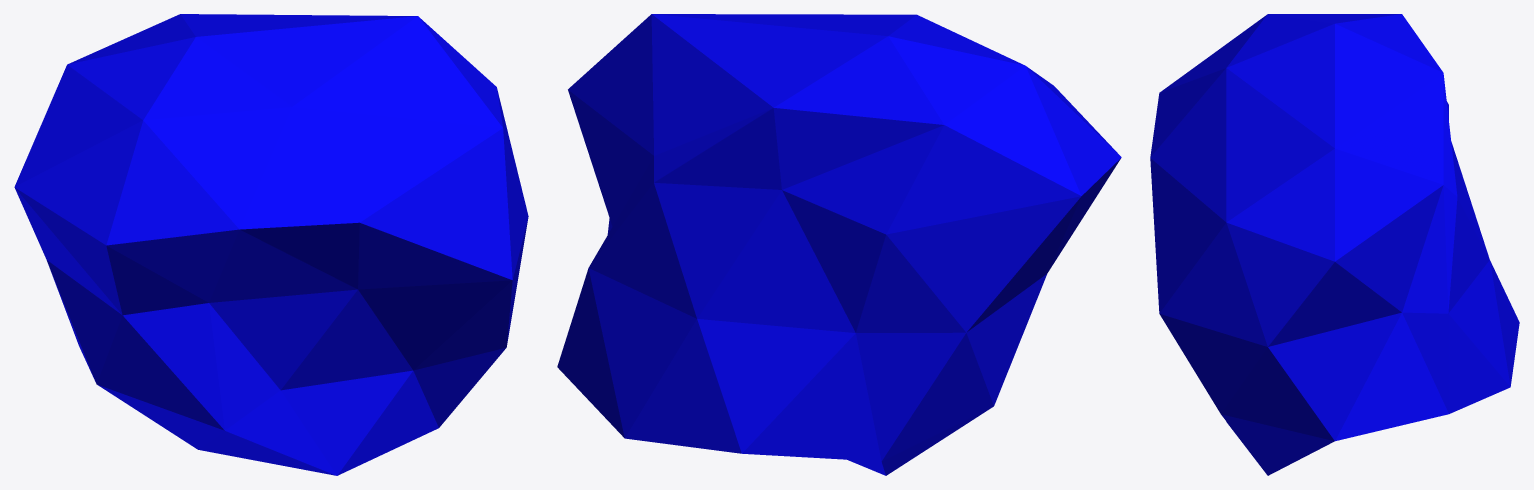
File: comet.obj
3 views of the same model, side by side, from view 1: azimuth 30°, elevation 25°; view 2: azimuth 150°, elevation 25°; view 3: azimuth 270°, elevation 25° (orthographic). The views are drawn at different scales.
Parts seen in each view (by area): view 1: Icosphere; view 2: Icosphere; view 3: Icosphere.
Part boxes in pixels (x1,y1,x2,y2): Icosphere: (14,14,528,475); Icosphere: (557,14,1121,475); Icosphere: (1150,14,1519,475).
Size of the model in its own units: 2.26 by 1.85 by 1.7.
